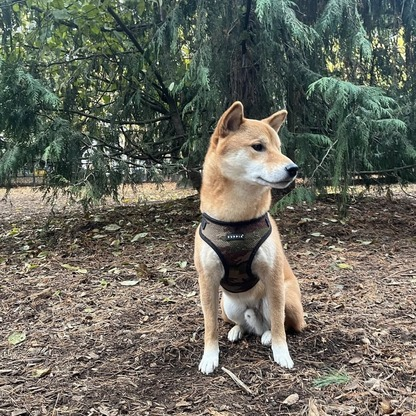shiba: (191, 91, 312, 376)
